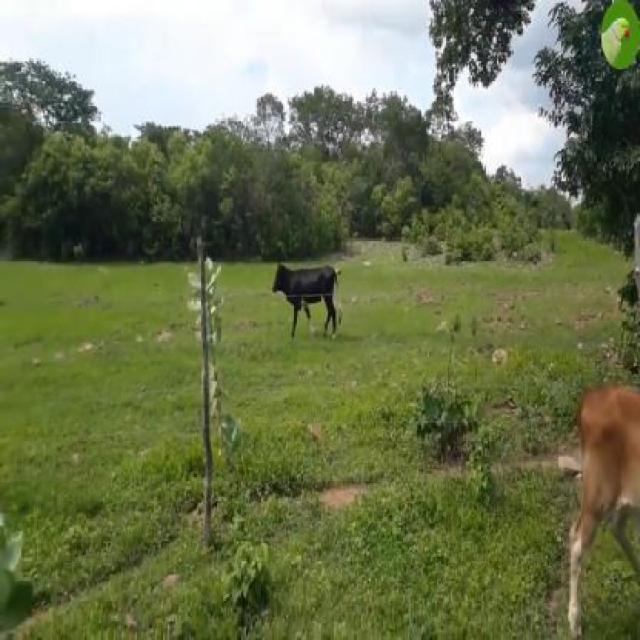Cow: (272, 263, 342, 346)
